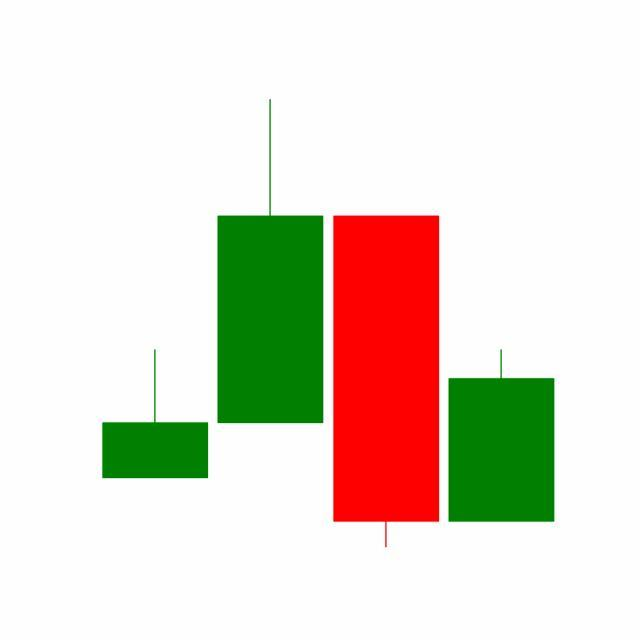Marubozu: (329, 213, 445, 552)
